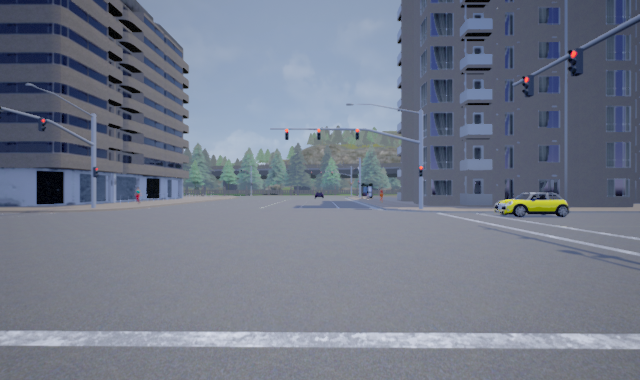pedestrian: (133, 186, 143, 204), (377, 186, 385, 202)
vehicle: (493, 191, 568, 217)
